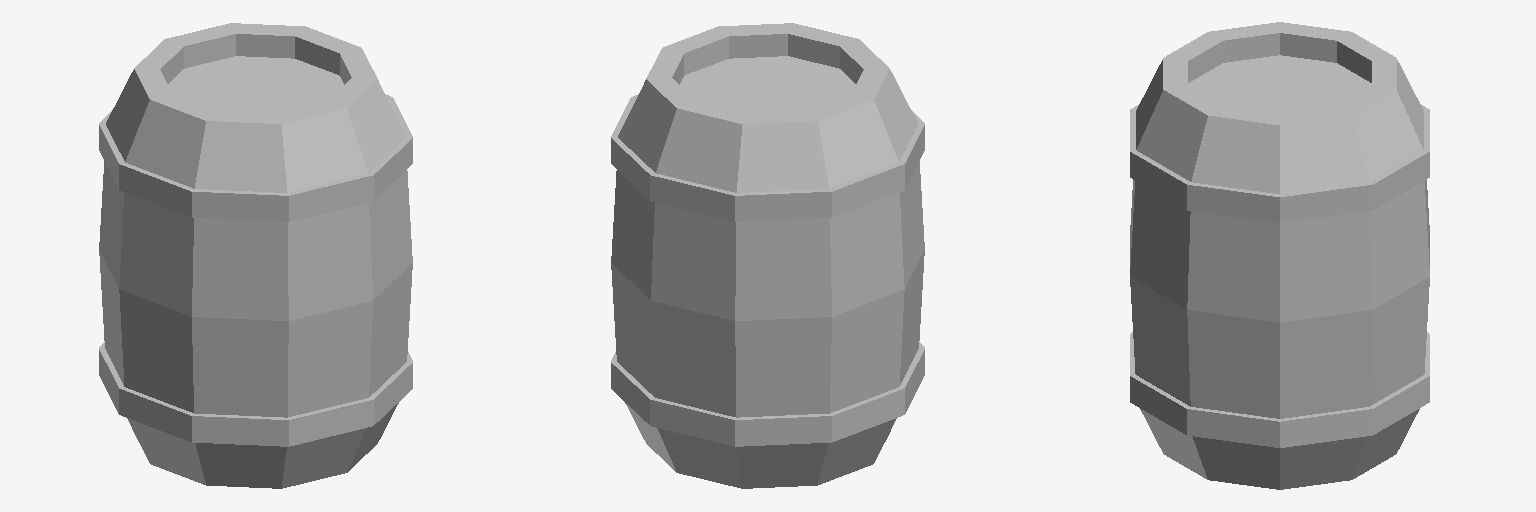
The model's file is barrel.obj.
The picture shows the model from 3 angles: view 1: azimuth 30°, elevation 25°; view 2: azimuth 150°, elevation 25°; view 3: azimuth 270°, elevation 25°; orthographic projection.
Size of the model in its own units: 0.3943 by 0.5012 by 0.375.